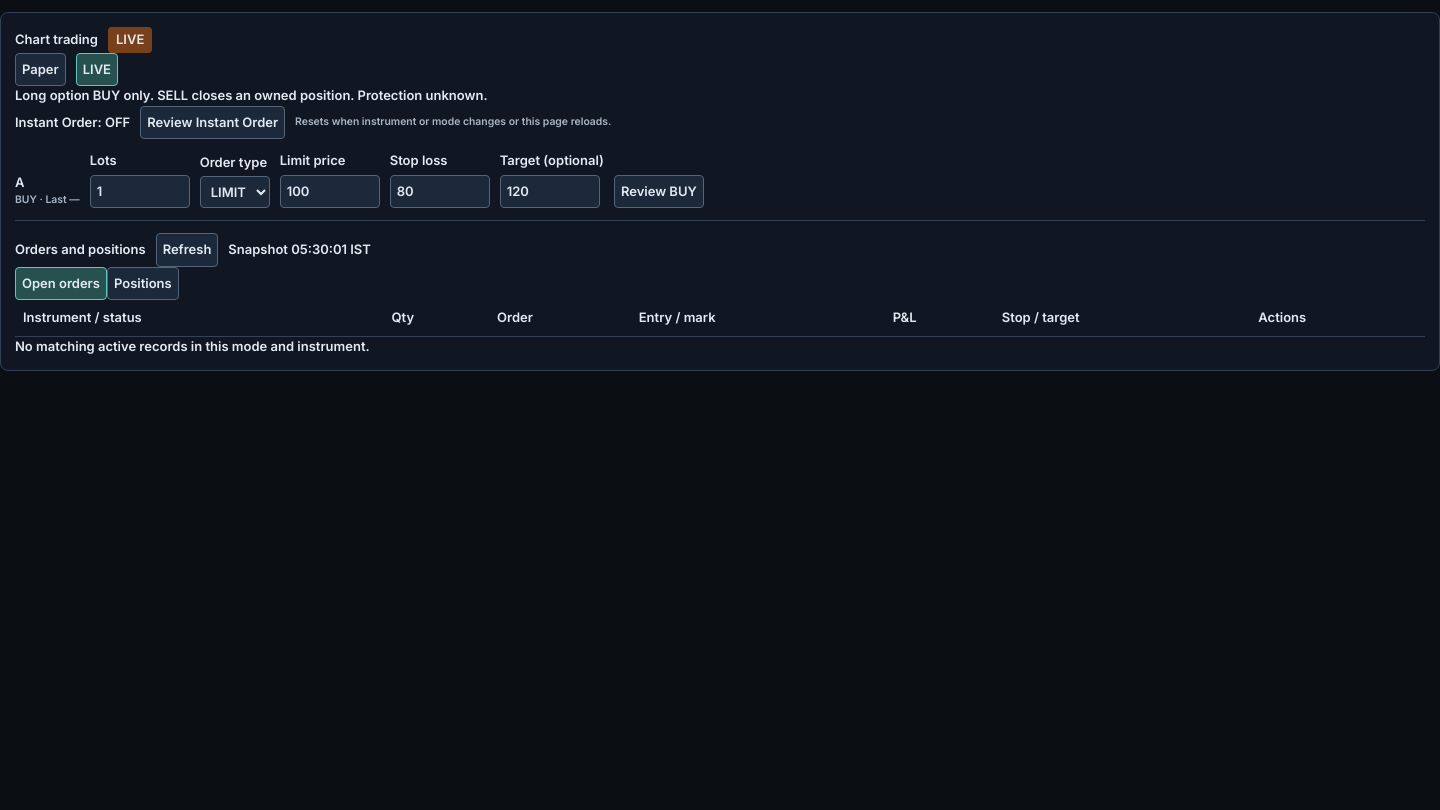
Test: LIVE instant requires explicit acknowledgement and resets on mode switch
Later steps or results of the test are not shown.
What coordinates should you click on to do the following:
click the button "Review Instant Order"
I would click on:
 (213, 122)
Its box is [140,106,285,139].
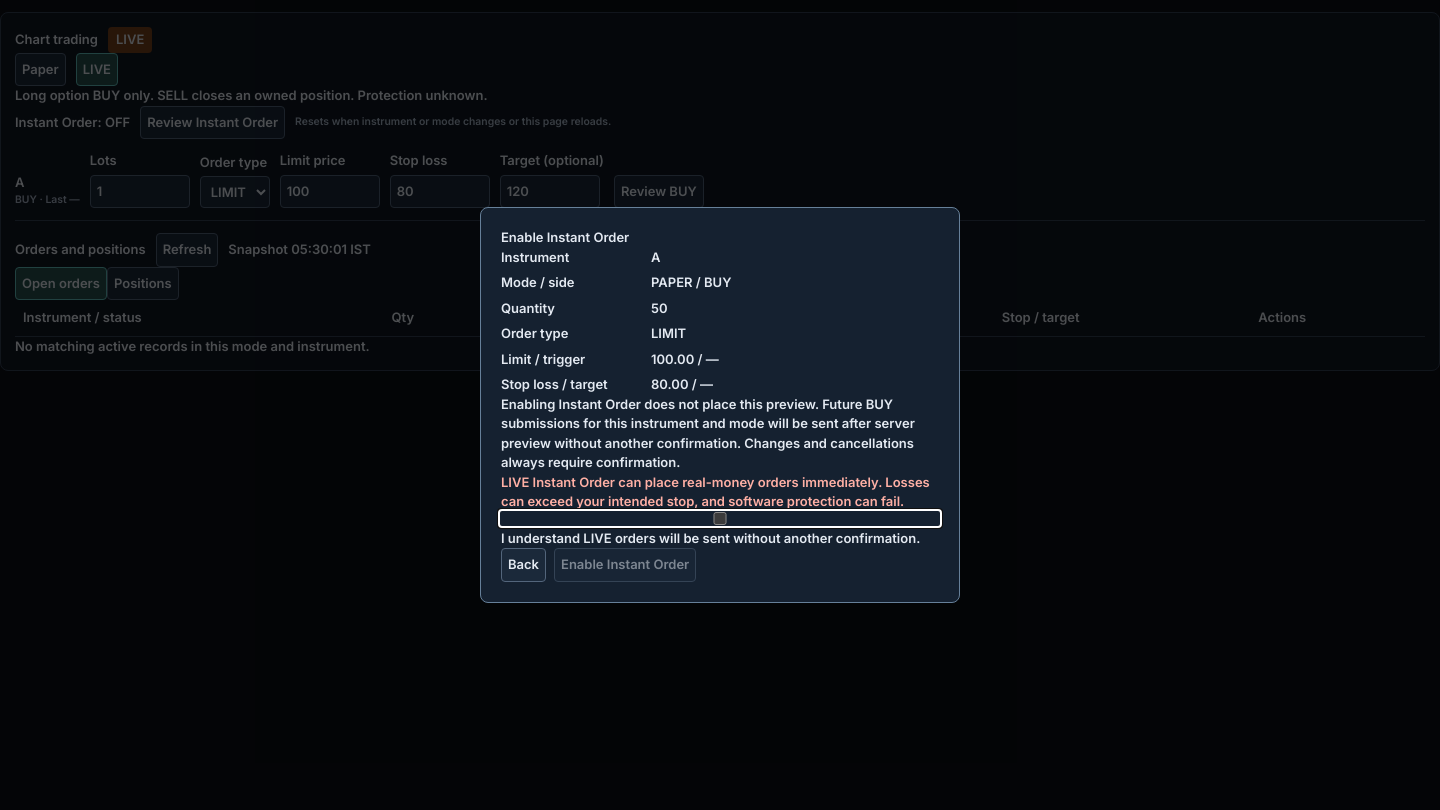
Check: the button "Enable Instant Order" is disabled, box [554,548,696,582]
